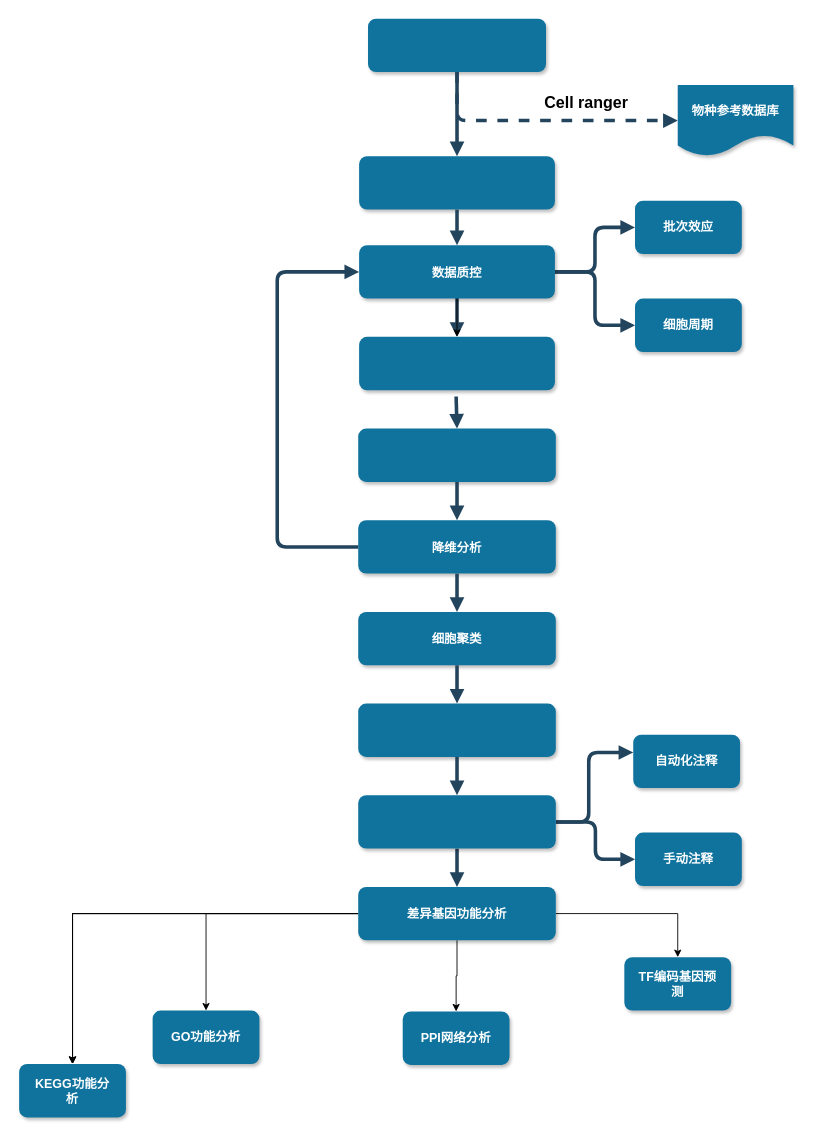
Some shapes in this 813 by 1139 pixel diagram are drawn without their labels. Here are the shapes that lost their labels. From the top down, the centre of each, then its label:
the point at 457,46: 原始数据下机
the point at 457,183: 数据比对
the point at 457,364: 数据标准化
the point at 457,456: 高变基因筛选
the point at 457,731: Maker基因鉴定
the point at 457,822: 细胞类型注释
